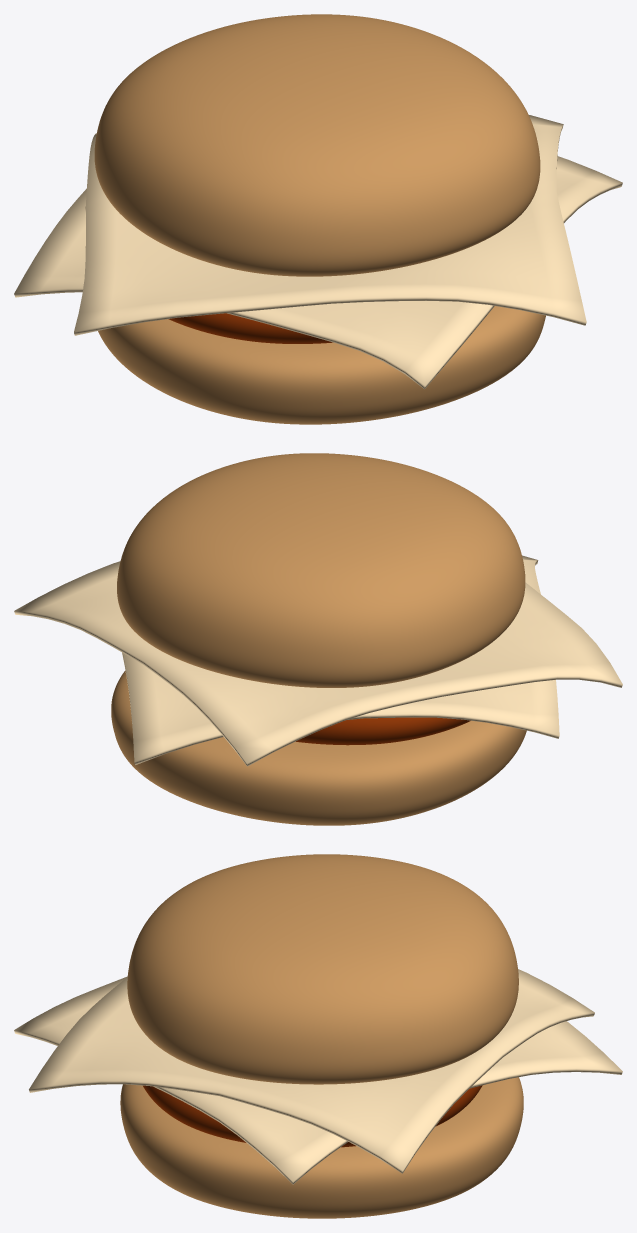
Rendered from burger.glb.
3 views of the same model, one above another, from view 1: azimuth 30°, elevation 25°; view 2: azimuth 150°, elevation 25°; view 3: azimuth 270°, elevation 25° (orthographic). The views are drawn at different scales.
Visible parts, largest first — view 1: Cube.001, Plane.001, Cube, Plane, Cube.002; view 2: Cube.001, Plane.001, Cube, Plane, Cube.002; view 3: Cube.001, Plane.001, Cube, Plane, Cube.002.
Part boxes in pixels (box(x1,y1,x2,y2)): Cube.001: box(94, 14, 540, 276); Plane.001: box(74, 115, 586, 335); Cube: box(98, 306, 545, 424); Plane: box(14, 156, 622, 389); Cube.002: box(168, 313, 332, 343); Cube.001: box(117, 453, 525, 687); Plane.001: box(14, 561, 622, 766); Cube: box(111, 671, 526, 825); Plane: box(122, 555, 559, 764); Cube.002: box(296, 717, 470, 745); Cube.001: box(127, 854, 518, 1084); Plane.001: box(29, 969, 594, 1173); Cube: box(120, 1077, 523, 1218); Plane: box(14, 976, 622, 1184); Cube.002: box(143, 1085, 482, 1147).
Bounding box in the file's own units: 13.56 × 6.66 × 13.82.
